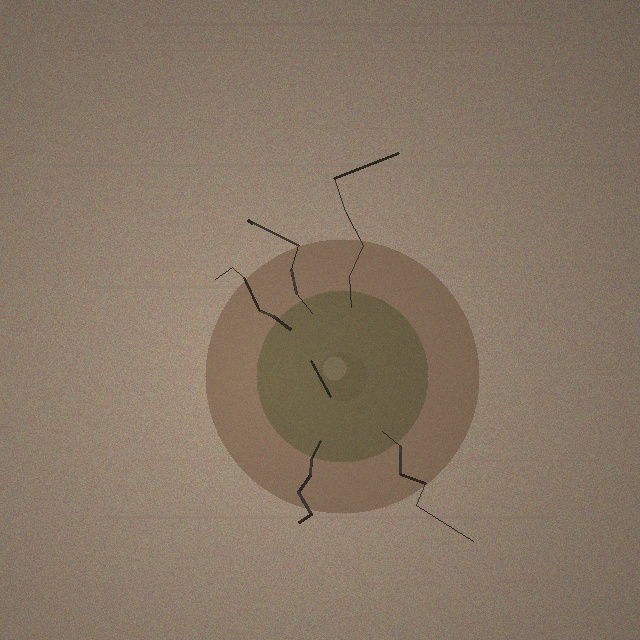crack: (205, 239, 479, 513)
